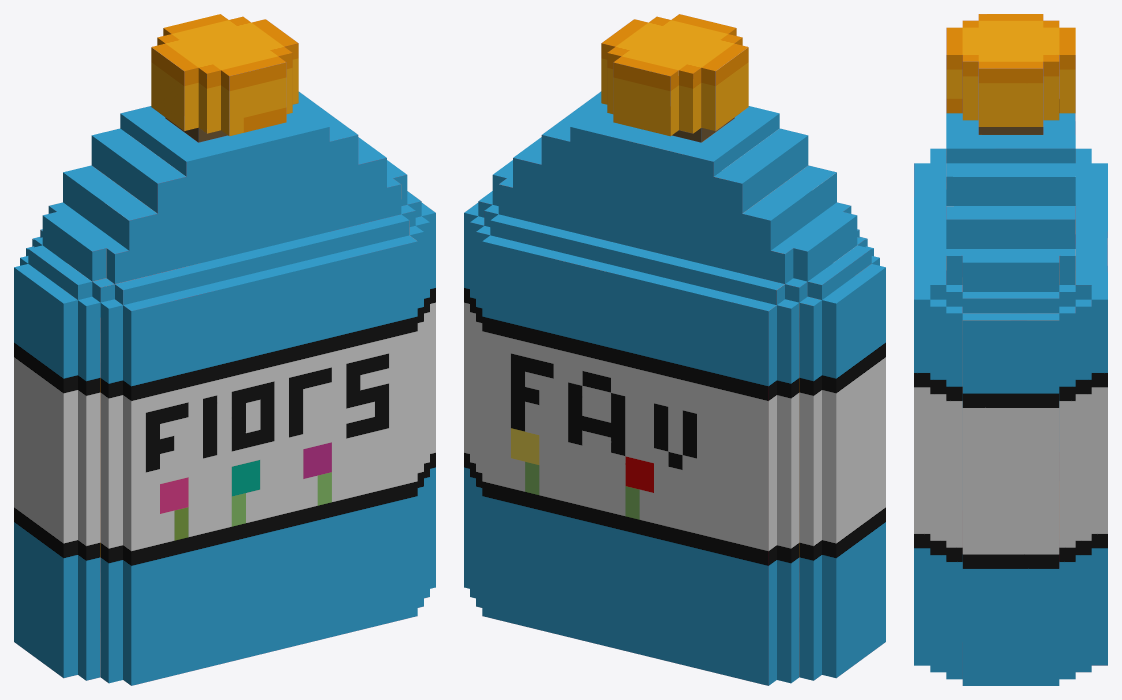
The model's file is Escenario 3 chocorramosurvivor-3.obj.
3 renders of one model, left to right at view 1: azimuth 30°, elevation 25°; view 2: azimuth 150°, elevation 25°; view 3: azimuth 270°, elevation 25°, orthographic. The views are drawn at different scales.
Visible parts, largest first — view 1: Escenario_3_chocorramosurvivor-3; view 2: Escenario_3_chocorramosurvivor-3; view 3: Escenario_3_chocorramosurvivor-3.
Part boxes in pixels (bbox=[...]): Escenario_3_chocorramosurvivor-3: bbox=[14, 14, 435, 685]; Escenario_3_chocorramosurvivor-3: bbox=[464, 14, 885, 685]; Escenario_3_chocorramosurvivor-3: bbox=[914, 14, 1107, 685].
Size of the model in its own units: 2.6 by 3.8 by 1.2.
Materials: 1 (1 with a texture image).
